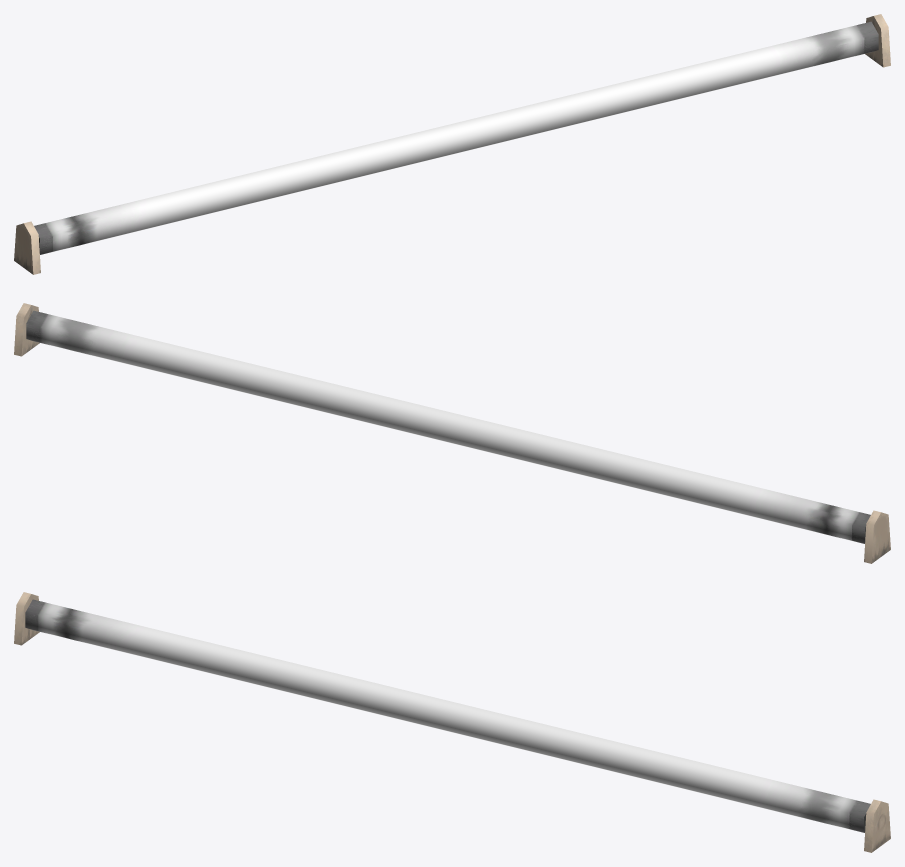
File: lightNeon.FBX
3 renders of one model, top to bottom at view 1: azimuth 30°, elevation 25°; view 2: azimuth 150°, elevation 25°; view 3: azimuth 330°, elevation 25°, orthographic.
Parts seen in each view (by area): view 1: SM_LightNeon; view 2: SM_LightNeon; view 3: SM_LightNeon.
Boxes of the visible parts, x1=… form: SM_LightNeon: x1=14, y1=14, x2=890, y2=274; SM_LightNeon: x1=14, y1=303, x2=890, y2=563; SM_LightNeon: x1=14, y1=592, x2=890, y2=852.
Bounding box in the file's own units: 104 × 5.16 × 4.06.
Materials: 1 (1 with a texture image).
